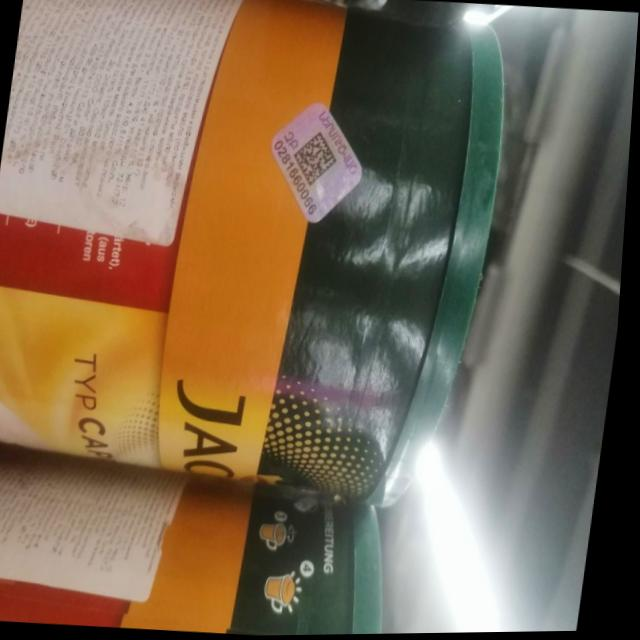datamatrix: (292, 130, 345, 192)
